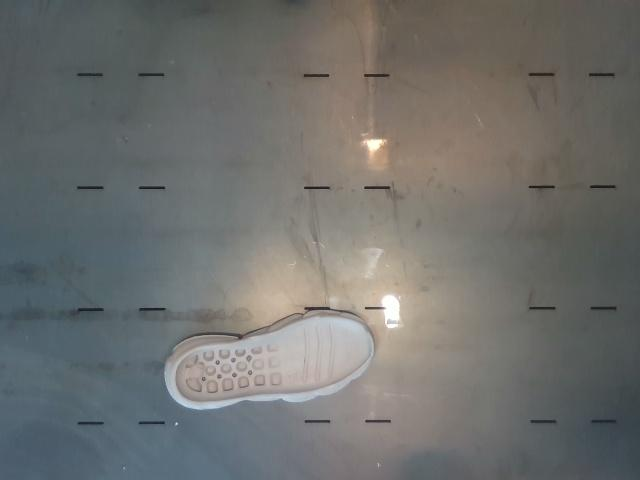shoes: (176, 316, 372, 402)
